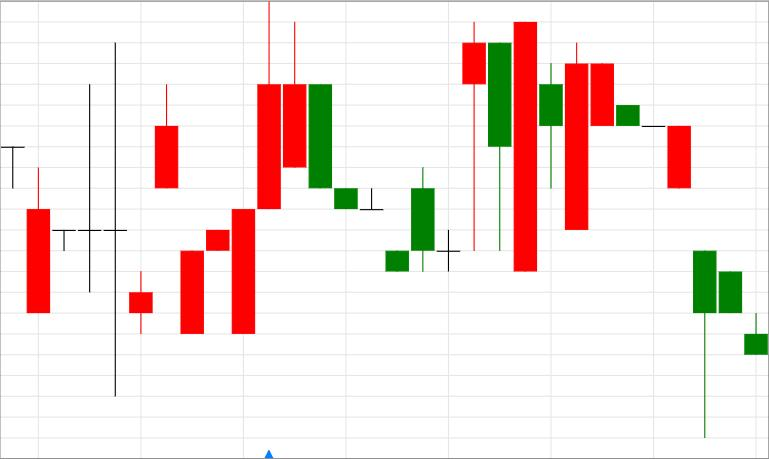hanging_man_fall: (386, 21, 486, 272)
